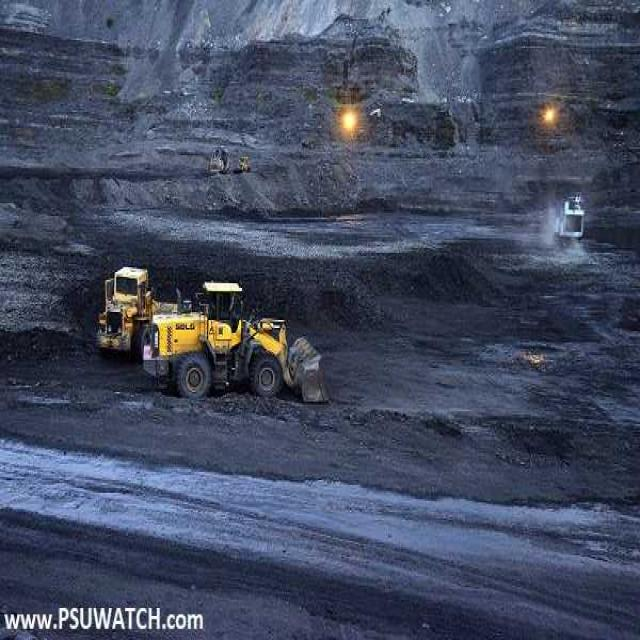buldozerpayloadergrader: (150, 286, 342, 402), (87, 250, 146, 360)
